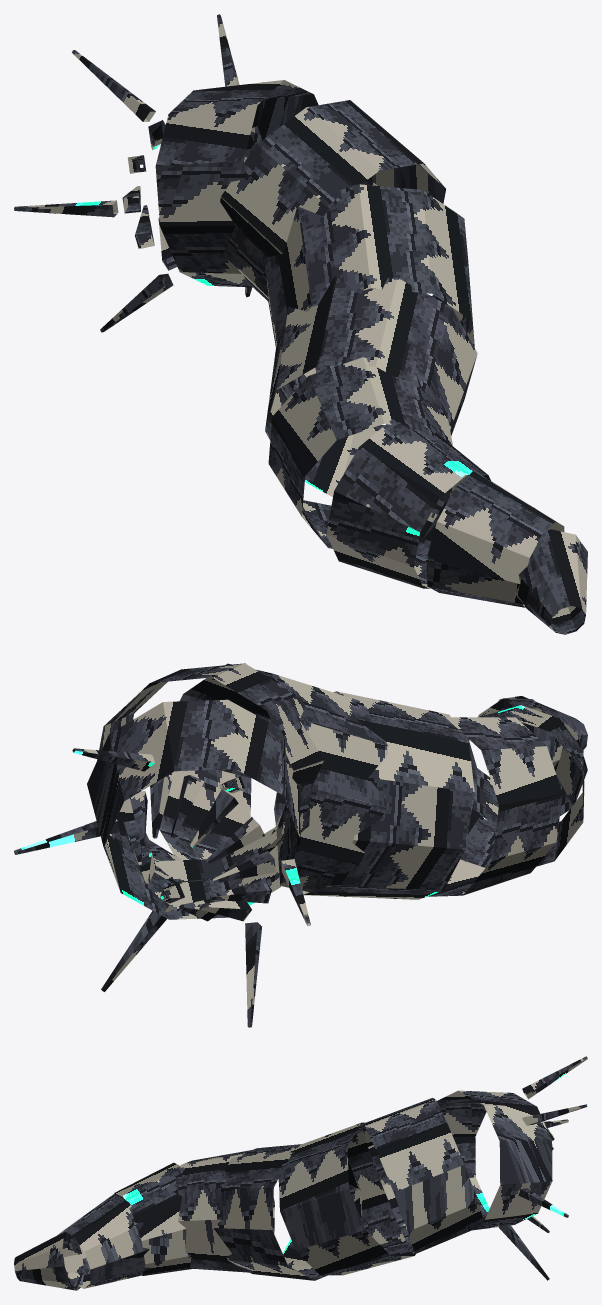
The model's file is cave_wyrm.glb.
The picture shows the model from 3 angles, top to bottom: view 1: azimuth 30°, elevation 25°; view 2: azimuth 150°, elevation 25°; view 3: azimuth 270°, elevation 25°; orthographic projection. The views are drawn at different scales.
Parts seen in each view (by area): view 1: CaveWyrm; view 2: CaveWyrm; view 3: CaveWyrm.
Part boxes in pixels (box(x1,y1,x2,y2)): CaveWyrm: box(14, 14, 587, 634); CaveWyrm: box(14, 663, 587, 1027); CaveWyrm: box(14, 1056, 587, 1290).
Size of the model in its own units: 1.51 by 1.43 by 3.65.
1 material, 1 textured.
